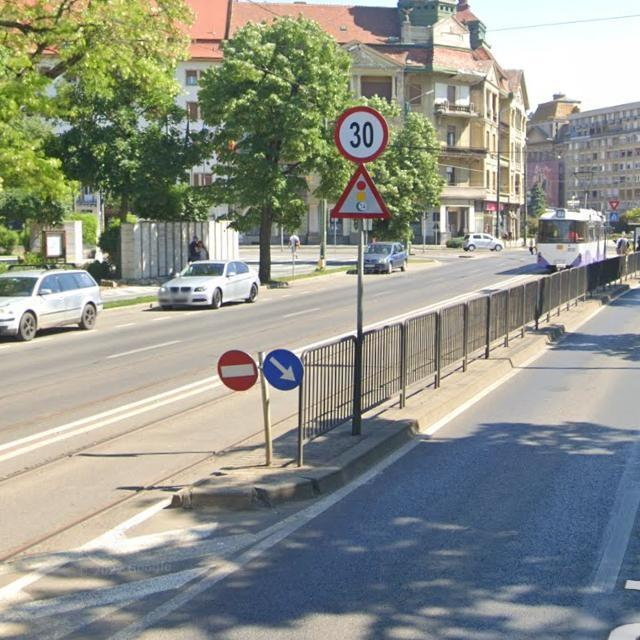forb_speed_over_30: (334, 107, 389, 164)
prio_give_way: (609, 201, 620, 211)
